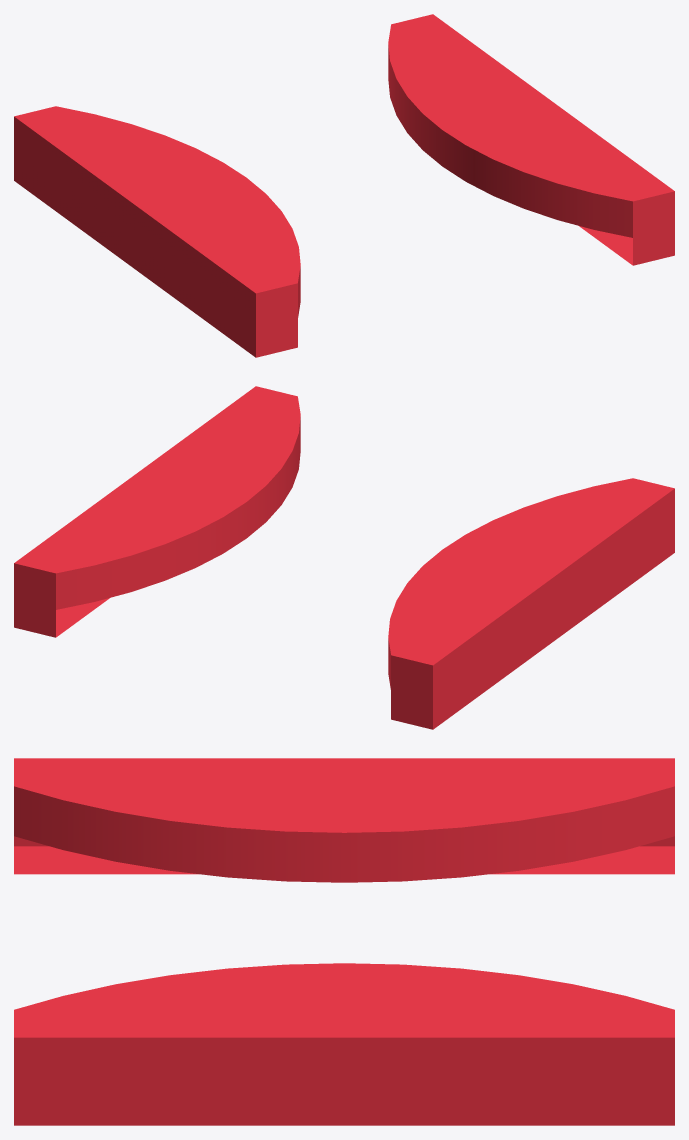
Rendered from NarrowRound pared.FBX.
3 renders of one model, top to bottom at view 1: azimuth 30°, elevation 25°; view 2: azimuth 150°, elevation 25°; view 3: azimuth 270°, elevation 25°, orthographic. The views are drawn at different scales.
Visible parts, largest first — view 1: narrowRound; view 2: narrowRound; view 3: narrowRound.
Part boxes in pixels (box(x1,y1,x2,y2)): narrowRound: box(14, 14, 674, 357); narrowRound: box(14, 386, 674, 729); narrowRound: box(14, 758, 674, 1125).
Size of the model in its own units: 99.99 by 14.67 by 99.99.
